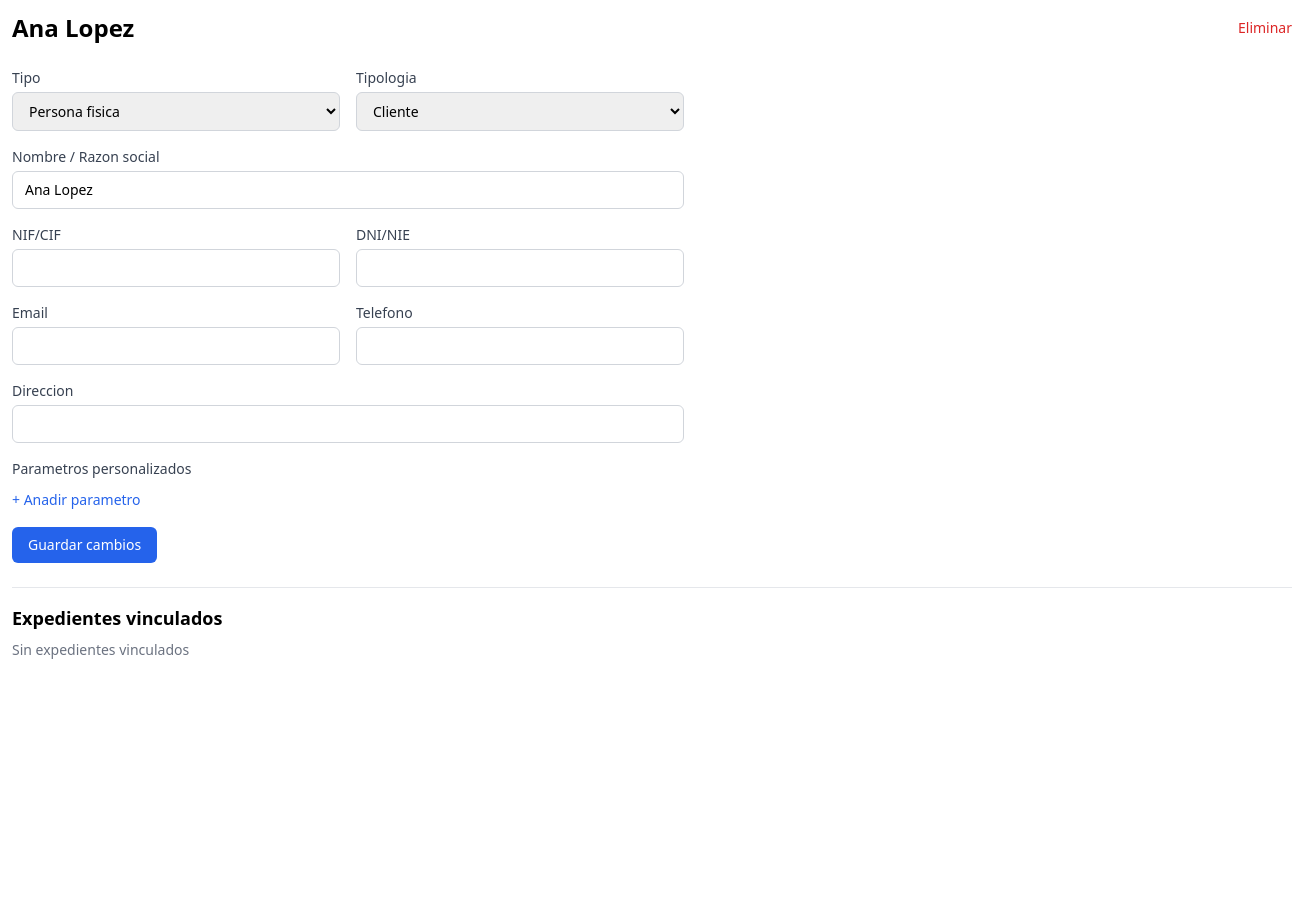
Test: ContactoDetailPage › shows API errors inline when contact update fails
Replace the text in the field showing "Ana Lopez" below "Nombre / Razon social" with "Ana Lopez Actualizada" at (348, 190), box [12,171,684,209]
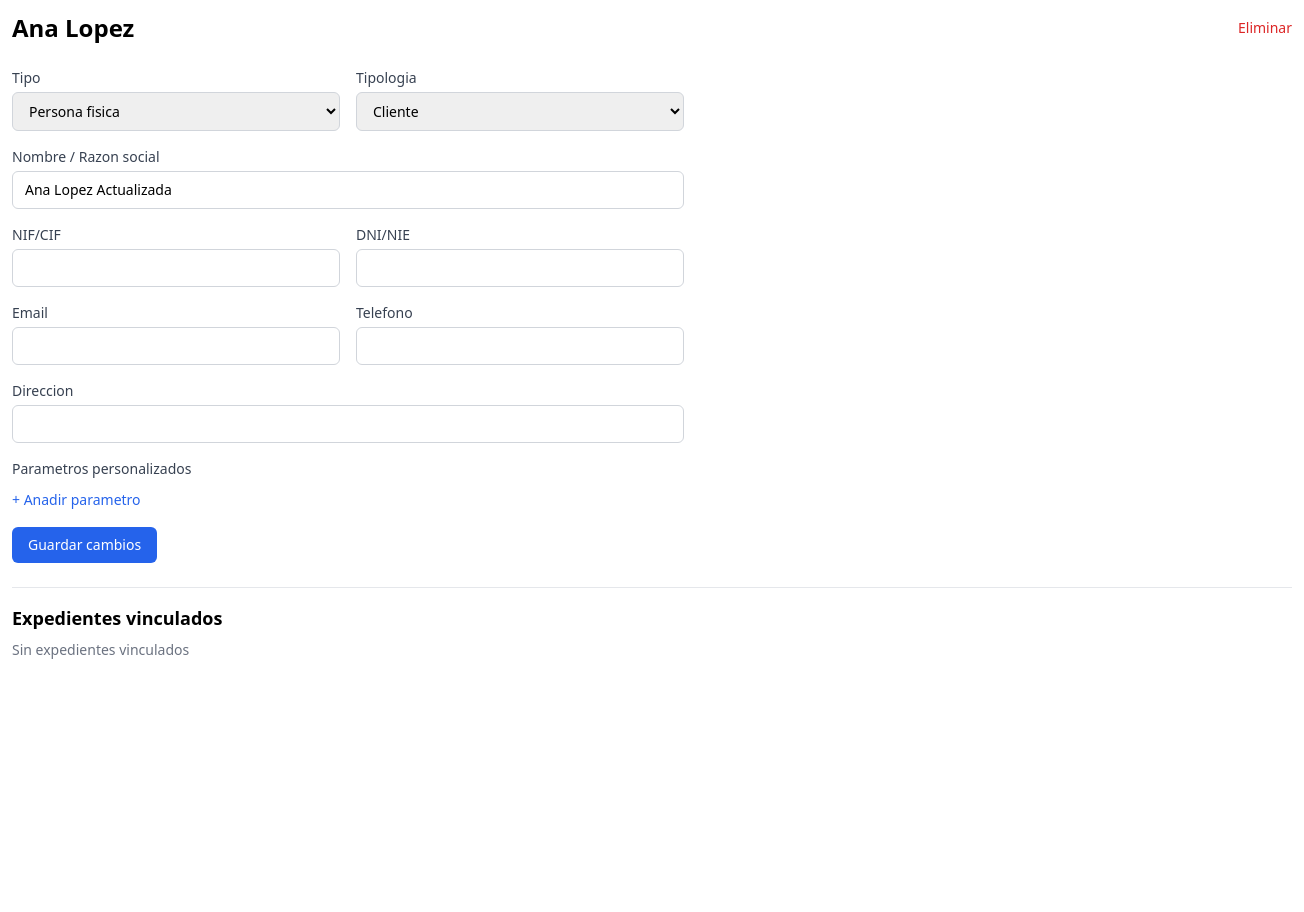
Click the button "Guardar cambios" at (85, 545), box [12,527,157,563]
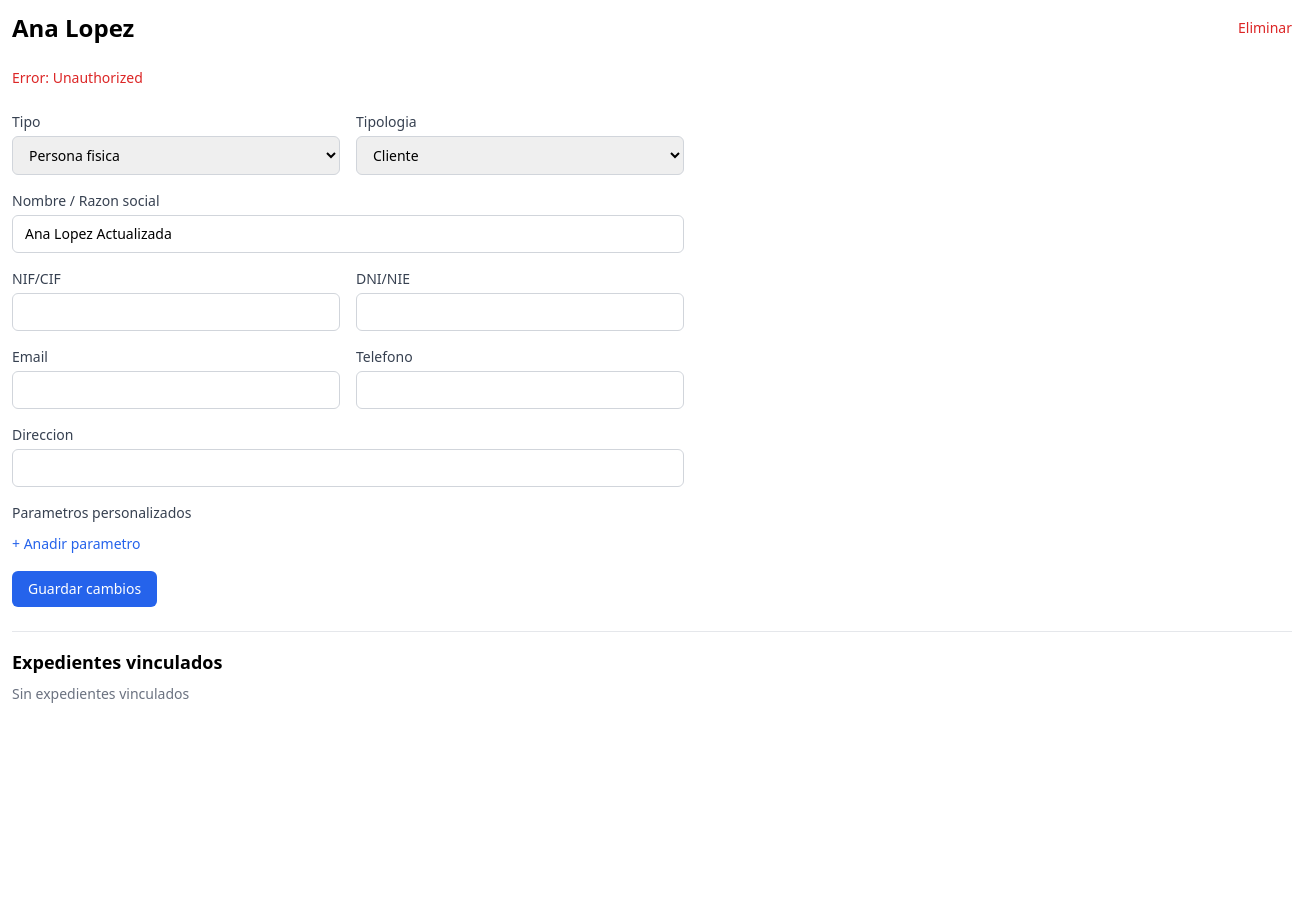
Result: the message reads "Error: Unauthorized" at [12,68,143,87]
